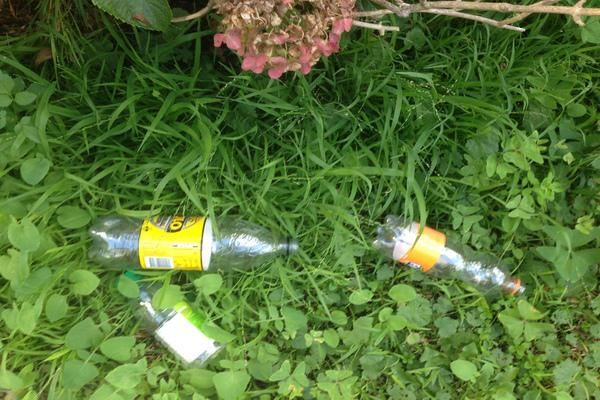Plastic Bottle: (370, 214, 526, 297), (85, 214, 297, 272), (113, 269, 223, 367)
